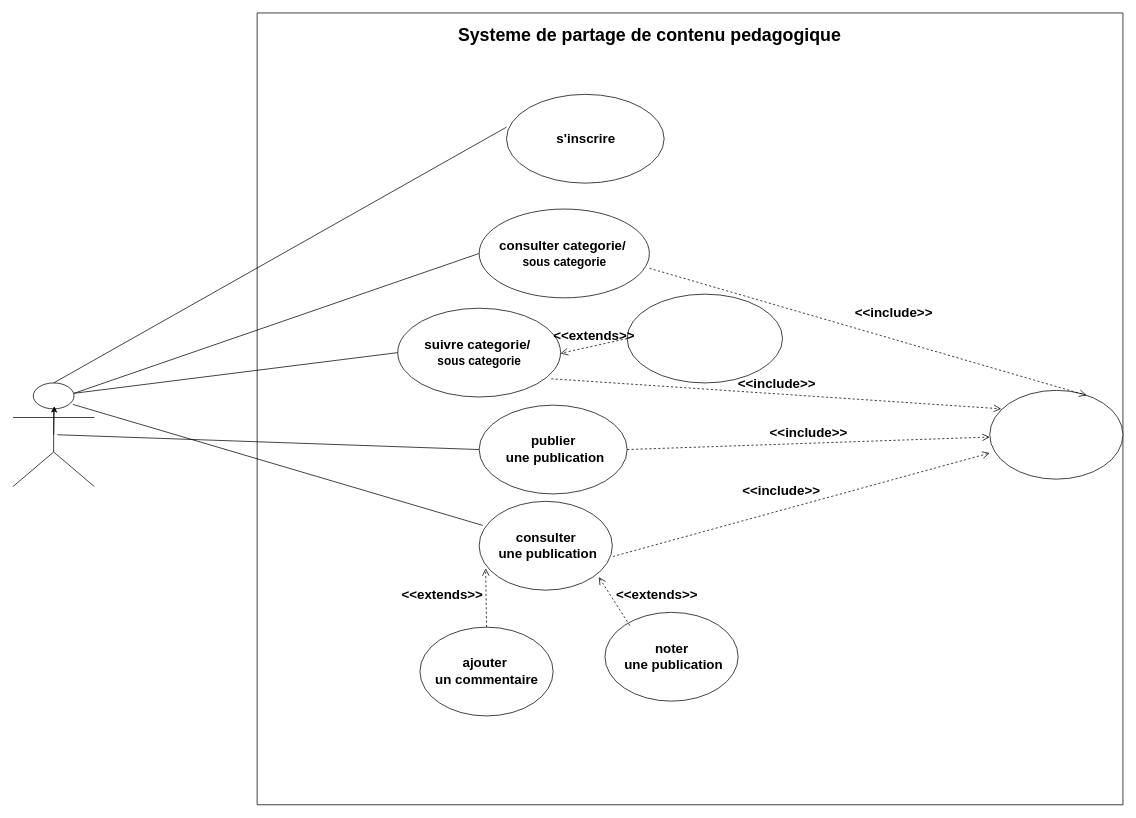
This 1136x818 diagram has some shape labels left out. The shapes that lost their labels are listed below. From the top down, each one's centre as x and y in pixels, then its label:
the point at 704,338: recevoir les notifications
the point at 53,434: etudiant
the point at 1056,434: s'authentifier
